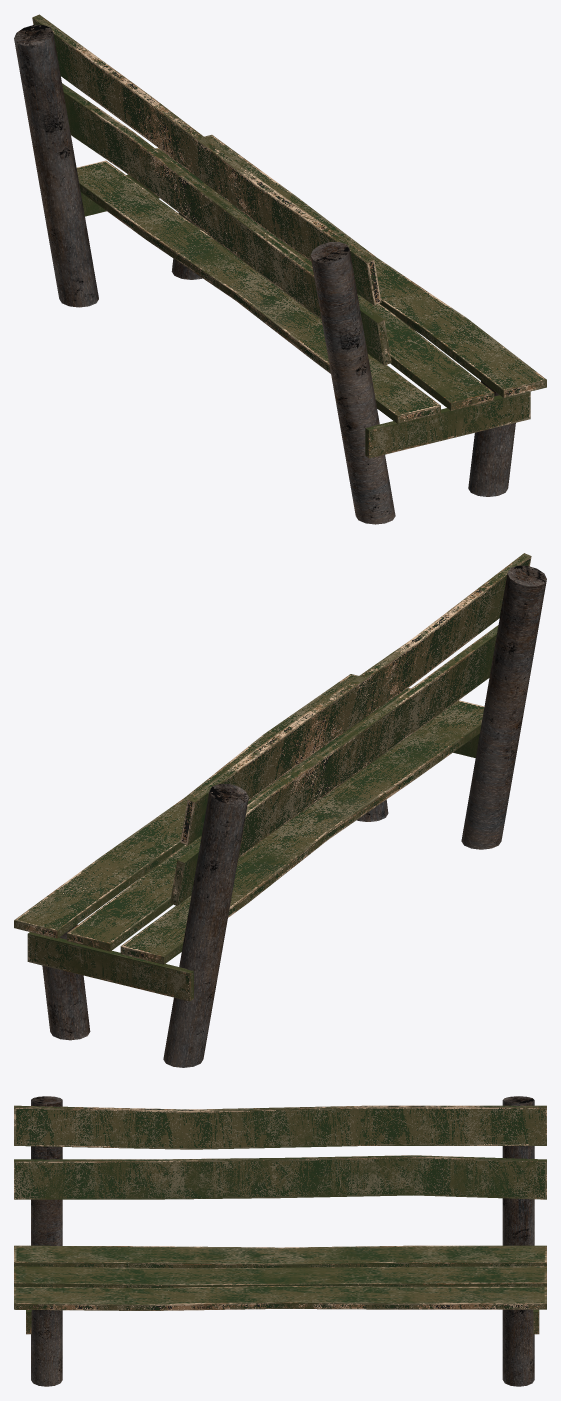
3 renders of one model, top to bottom at view 1: azimuth 30°, elevation 25°; view 2: azimuth 150°, elevation 25°; view 3: azimuth 270°, elevation 25°, orthographic. The views are drawn at different scales.
Visible parts, largest first — view 1: bench_low_0; view 2: bench_low_0; view 3: bench_low_0.
Boxes of the visible parts, x1,y1,x2,y2 form: bench_low_0: (14,14,546,524); bench_low_0: (14,553,546,1067); bench_low_0: (14,1096,546,1386).
Size of the model in its own units: 0.9126 by 1.12 by 2.45.
Materials: 1 (1 with a texture image).
